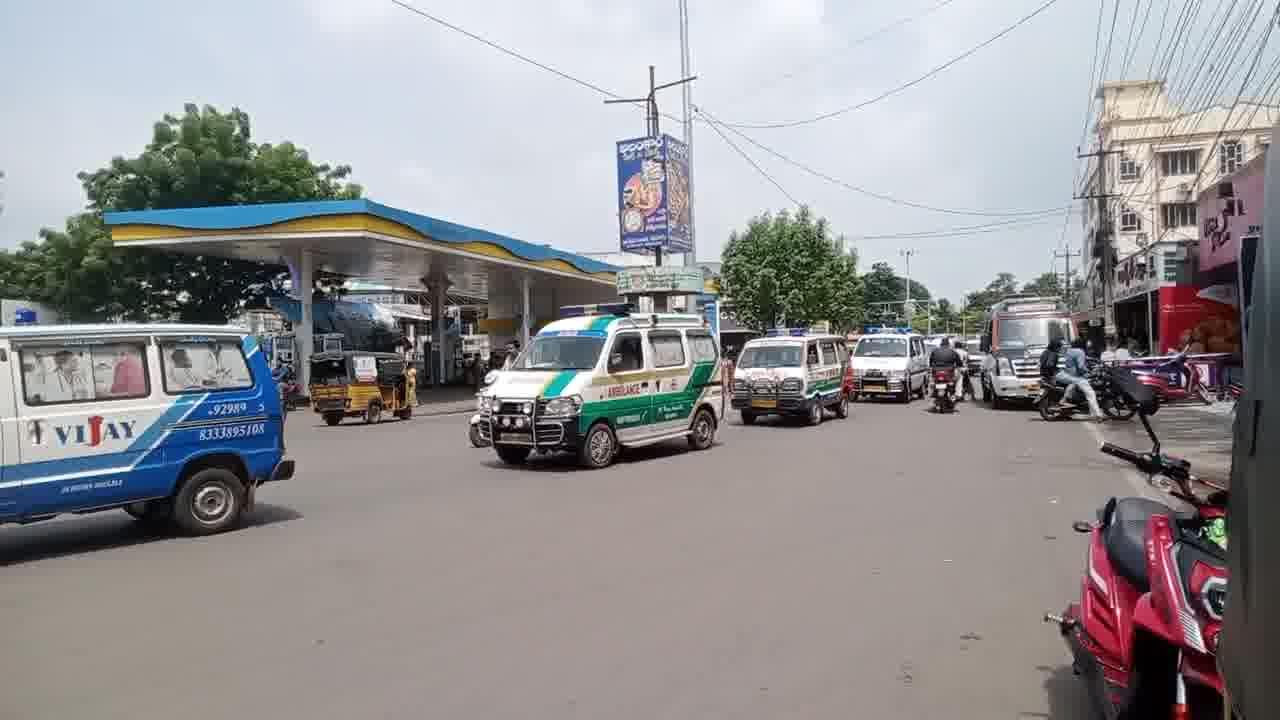AMBULANCE: (5, 289, 290, 566), (464, 283, 722, 489), (992, 280, 1086, 415), (735, 328, 845, 429), (862, 328, 927, 410)
